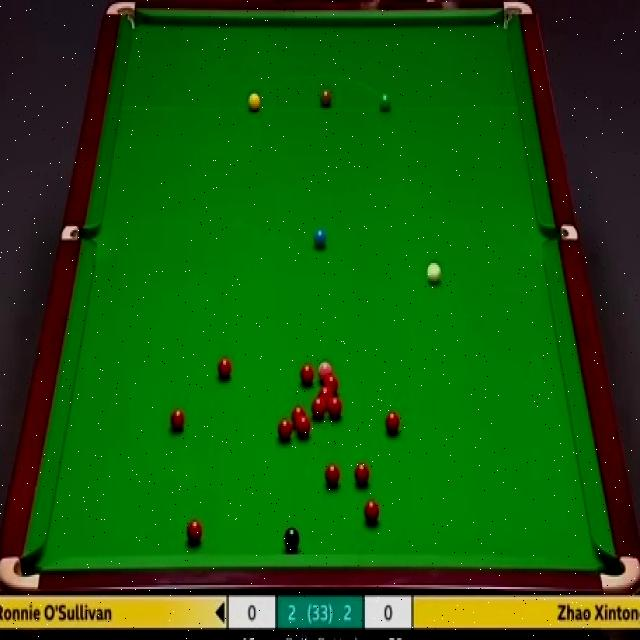black-ball: (282, 524, 300, 549)
blue-ball: (313, 229, 327, 247)
brown-ball: (320, 90, 332, 108)
green-ball: (378, 90, 392, 113)
pink-ball: (314, 363, 331, 377)
red-ball: (384, 407, 400, 435), (186, 520, 202, 548), (170, 406, 186, 432), (362, 498, 377, 524), (297, 412, 312, 437), (216, 356, 231, 381), (326, 466, 341, 490), (311, 397, 326, 420), (353, 462, 368, 484), (316, 385, 332, 404), (278, 421, 293, 440), (327, 394, 341, 414), (323, 375, 338, 392), (301, 363, 313, 384)
white-ball: (426, 261, 441, 285)
yellow-ball: (248, 92, 261, 112)
